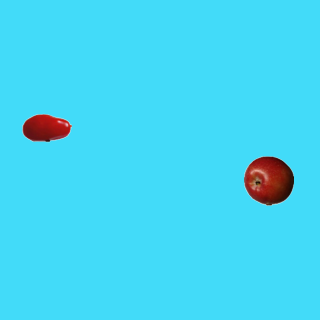Apple Braeburn: (243, 155, 293, 205)
Tomato 2: (21, 102, 71, 152)
